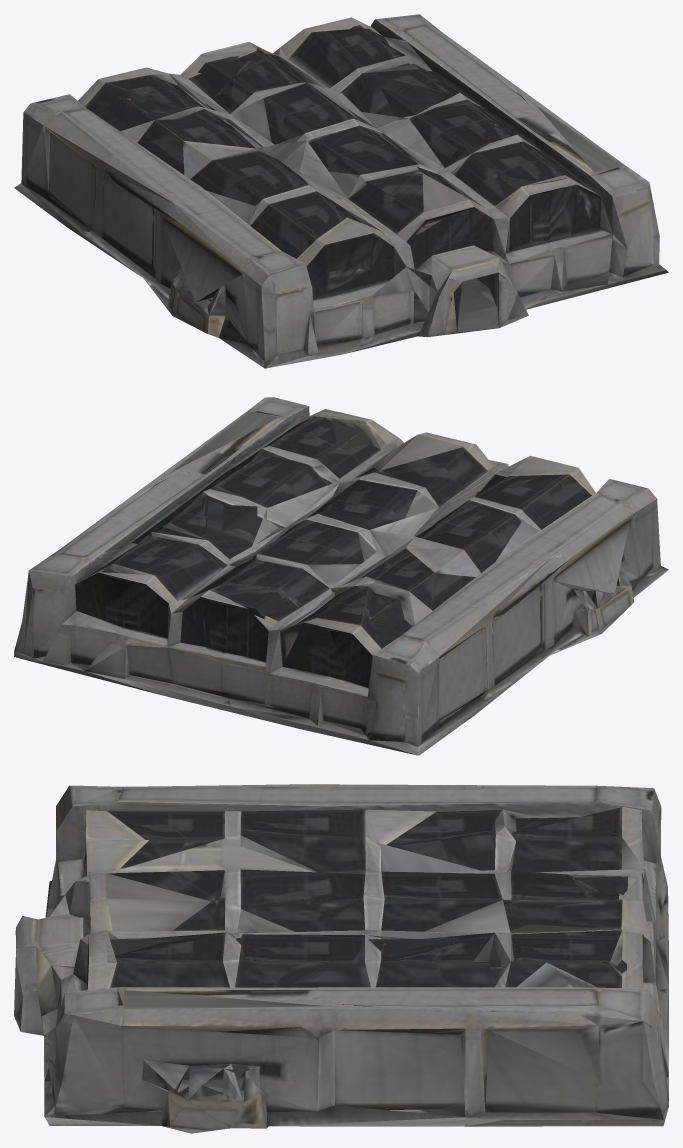
Rendered from imperial_hydroponic_bay_lod2.glb.
The picture shows the model from 3 angles, top to bottom: view 1: azimuth 30°, elevation 25°; view 2: azimuth 150°, elevation 25°; view 3: azimuth 270°, elevation 25°; orthographic projection. The views are drawn at different scales.
Parts seen in each view (by area): view 1: mesh_node; view 2: mesh_node; view 3: mesh_node.
Boxes of the visible parts, bbox=[...] form: mesh_node: bbox=[14, 14, 668, 368]; mesh_node: bbox=[14, 397, 668, 755]; mesh_node: bbox=[14, 784, 668, 1133].
Size of the model in its own units: 22.86 by 5.08 by 24.64.
1 material, 1 textured.
